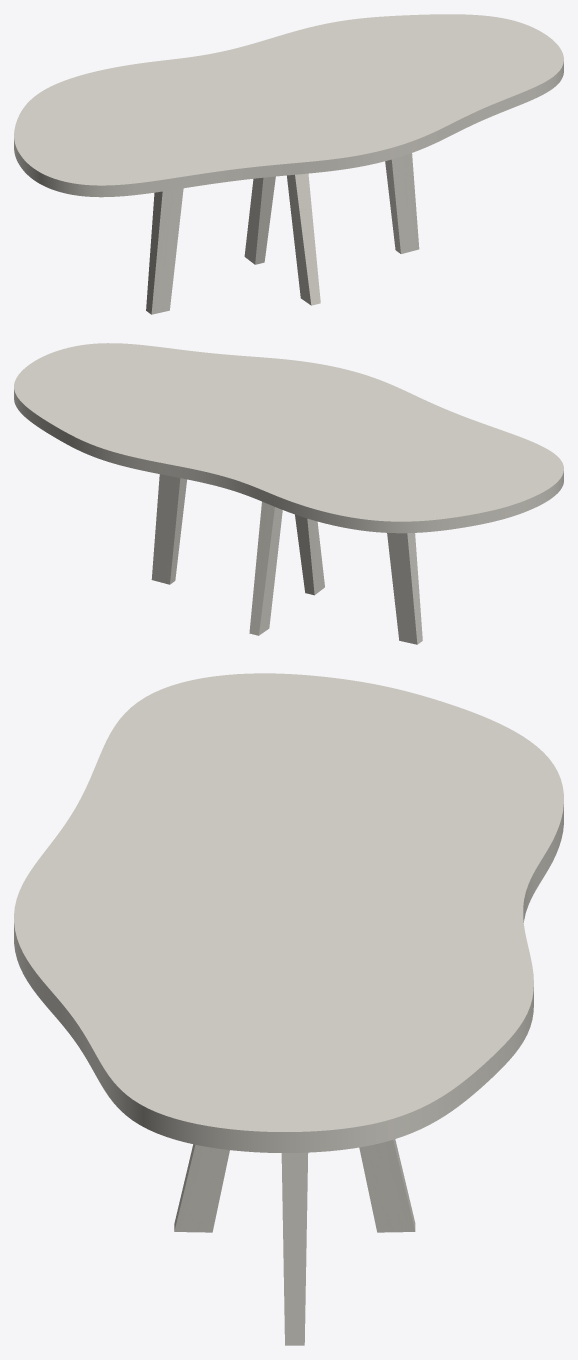
Rendered from pale_toplast_standard_searwalnut.glb.
3 renders of one model, top to bottom at view 1: azimuth 30°, elevation 25°; view 2: azimuth 150°, elevation 25°; view 3: azimuth 270°, elevation 25°, orthographic. The views are drawn at different scales.
Visible parts, largest first — view 1: standard_toplast, searwalnut; view 2: standard_toplast, searwalnut; view 3: standard_toplast, searwalnut.
Boxes of the visible parts, left/top/right/bottom form: standard_toplast: left=14, top=14, right=563, bottom=197; searwalnut: left=146, top=153, right=419, bottom=314; standard_toplast: left=14, top=343, right=563, bottom=533; searwalnut: left=151, top=474, right=422, bottom=644; standard_toplast: left=14, top=673, right=563, bottom=1152; searwalnut: left=174, top=1139, right=415, bottom=1345.
Size of the model in its own units: 7.5 by 2.5 by 3.8.
Materials: 1 (1 with a texture image).
